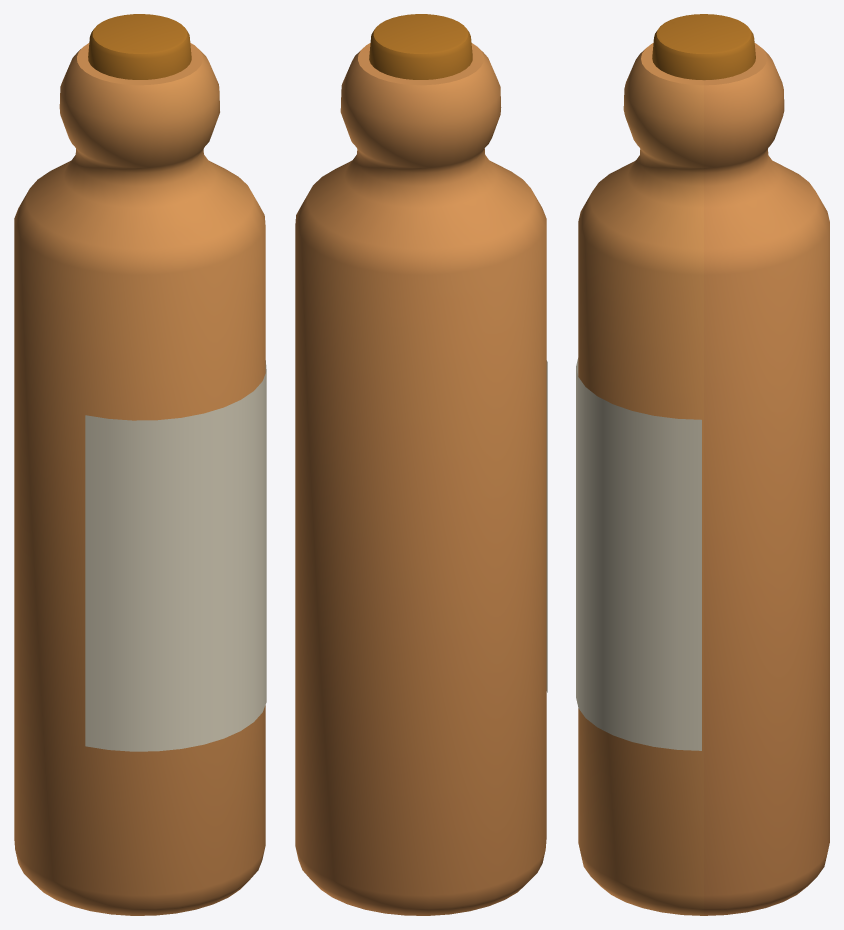
The model's file is Bottle_4.fbx.
3 renders of one model, left to right at view 1: azimuth 30°, elevation 25°; view 2: azimuth 150°, elevation 25°; view 3: azimuth 270°, elevation 25°, orthographic.
Visible parts, largest first — view 1: Bottle_4; view 2: Bottle_4; view 3: Bottle_4.
Boxes of the visible parts, left/top/right/bottom form: Bottle_4: left=14, top=14, right=266, bottom=915; Bottle_4: left=295, top=14, right=547, bottom=915; Bottle_4: left=576, top=14, right=829, bottom=915.
Bounding box in the file's own units: 7.84 × 29.09 × 7.91.
